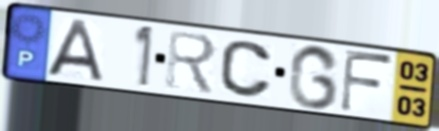1: (131, 23, 156, 92)
A: (44, 17, 105, 83)
C: (218, 38, 275, 100)
F: (337, 47, 396, 115)
G: (286, 42, 342, 111)
R: (164, 28, 220, 98)
